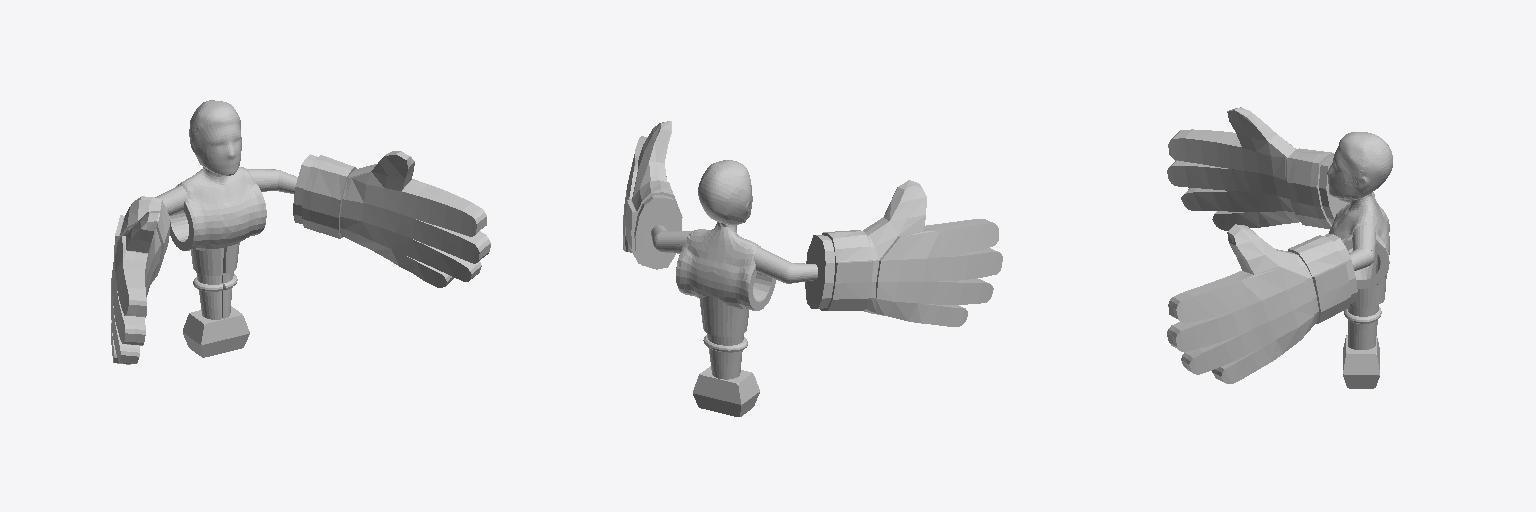
File: foosball_keeper_v3.obj
The picture shows the model from 3 angles: view 1: azimuth 30°, elevation 25°; view 2: azimuth 150°, elevation 25°; view 3: azimuth 270°, elevation 25°; orthographic projection.
Parts seen in each view (by area): view 1: L_Arm_Cylinder.002; view 2: L_Arm_Cylinder.002; view 3: L_Arm_Cylinder.002.
Part boxes in pixels (bbox=[...]): L_Arm_Cylinder.002: bbox=[111, 100, 490, 364]; L_Arm_Cylinder.002: bbox=[623, 121, 1002, 416]; L_Arm_Cylinder.002: bbox=[1167, 107, 1392, 388].
Size of the model in its own units: 22.46 by 14.32 by 12.04.